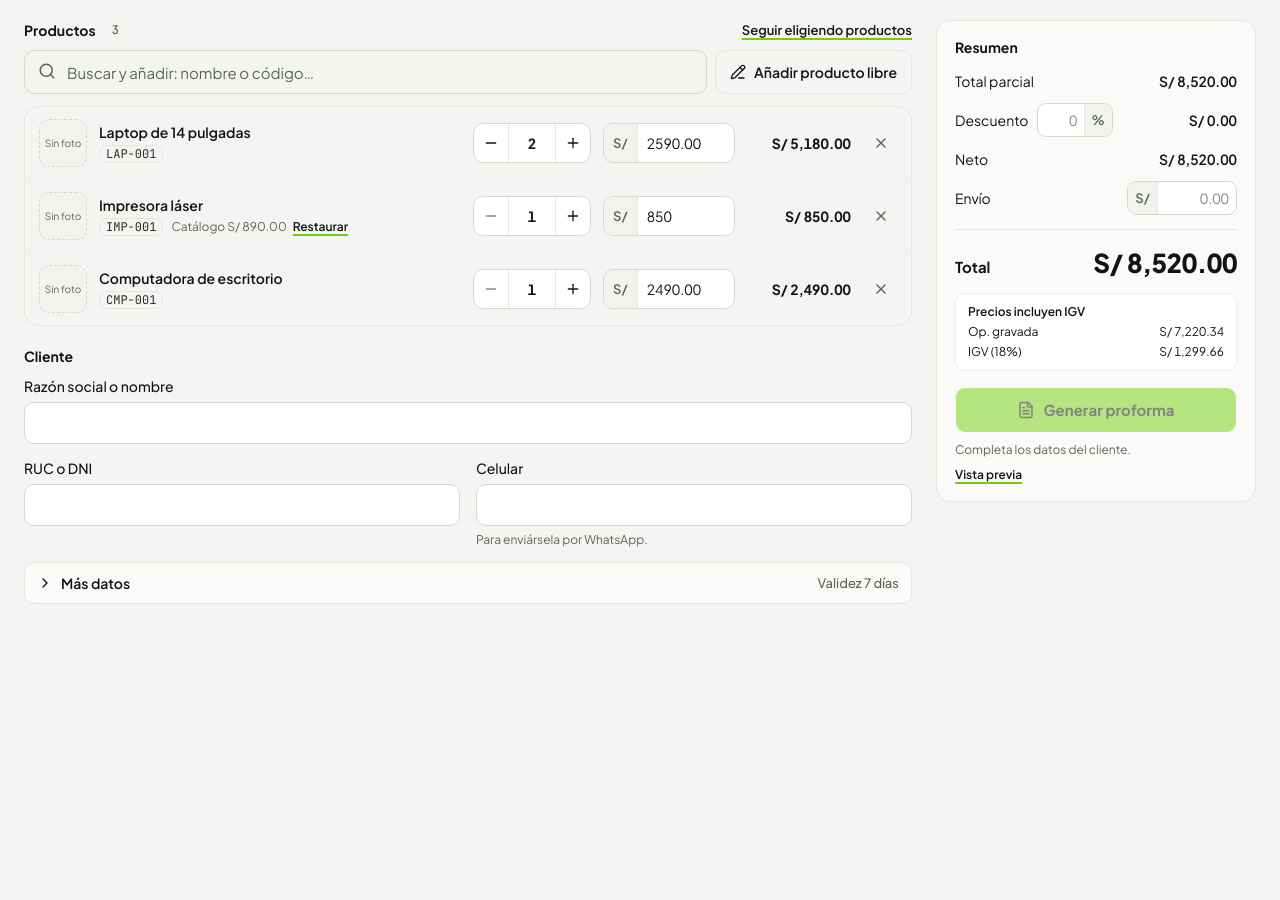
Test: ProformaEditor › quitar una línea se puede deshacer
Click the button named "Quitar Impresora láser" at (881, 216), box [863,198,899,234]
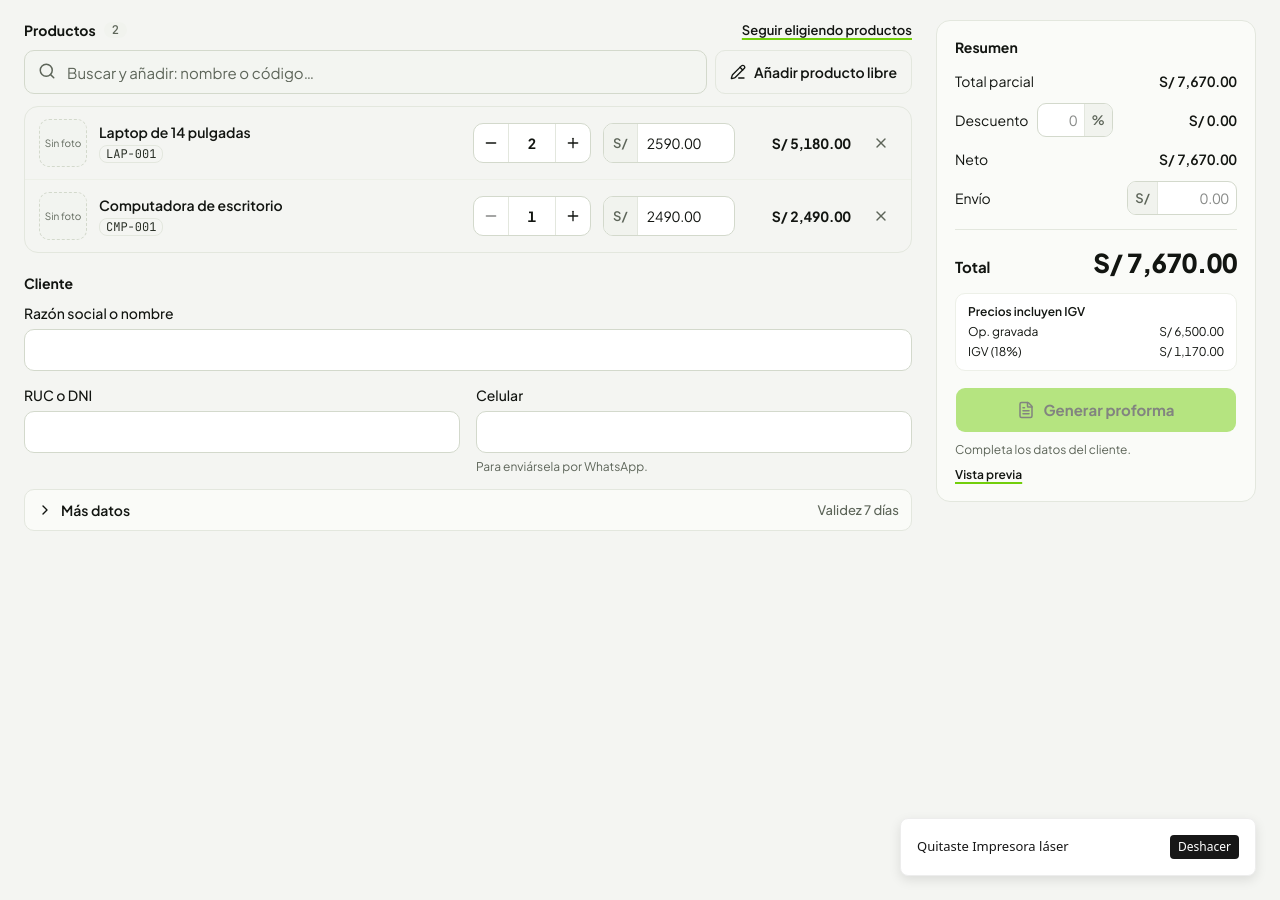
Click the button "Deshacer" at (1205, 847), box [1170,835,1239,859]
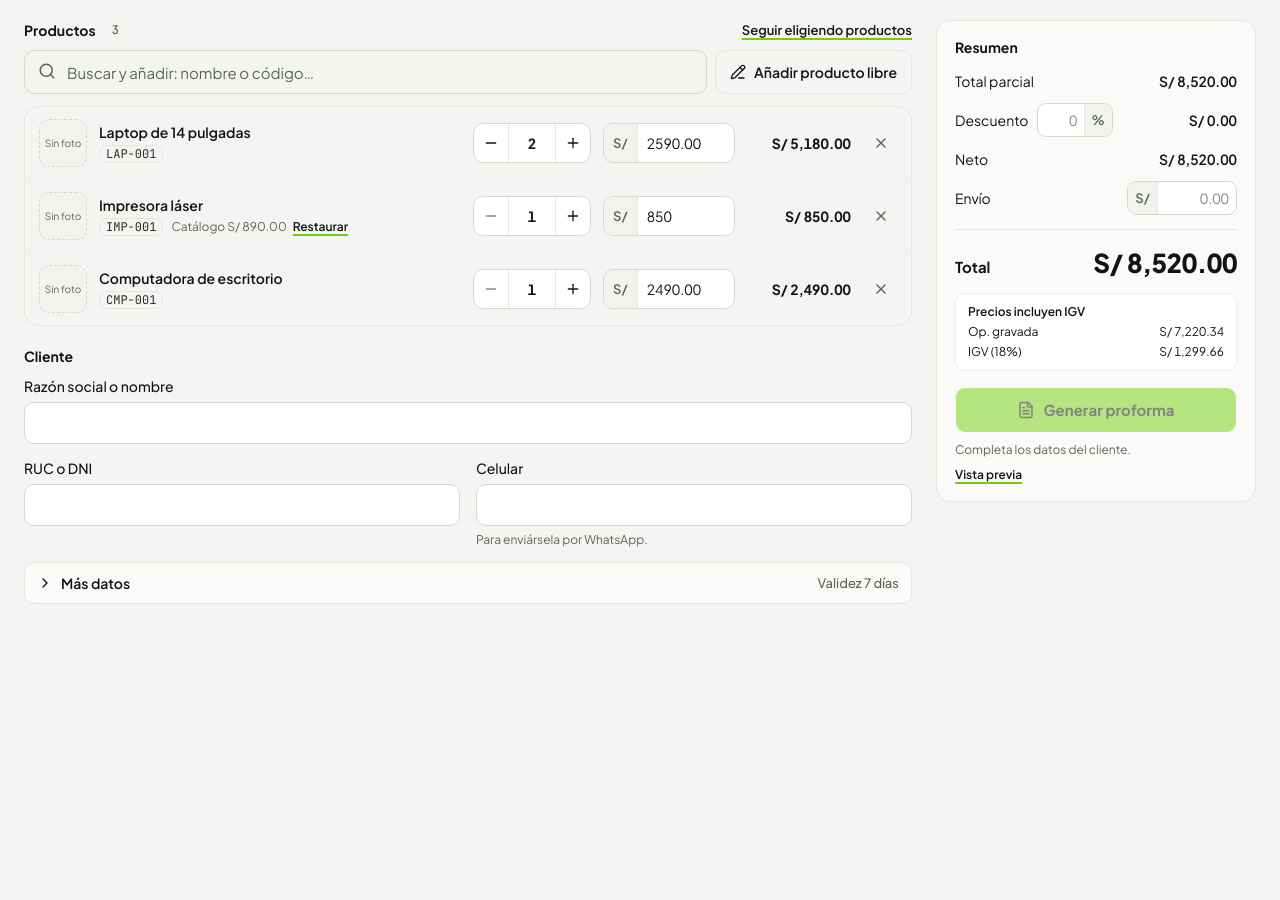
Now the field named "Precio unitario de Impresora láser" holds "850", box [638,197,734,235]
